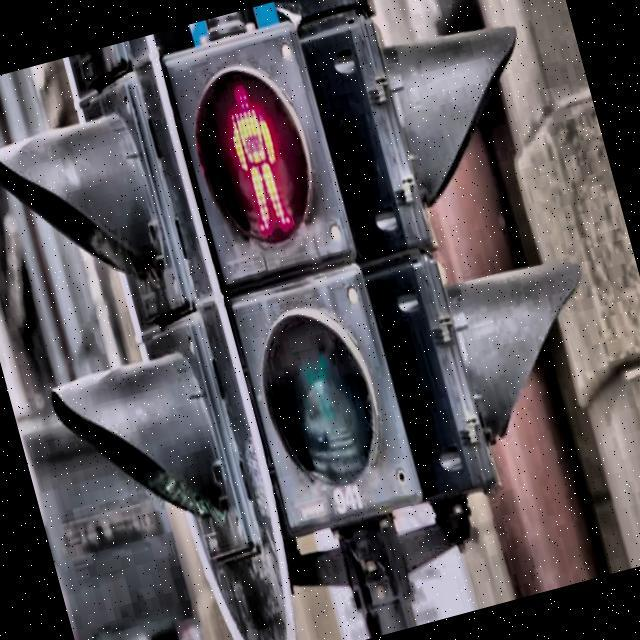red_light: (213, 74, 299, 240)
